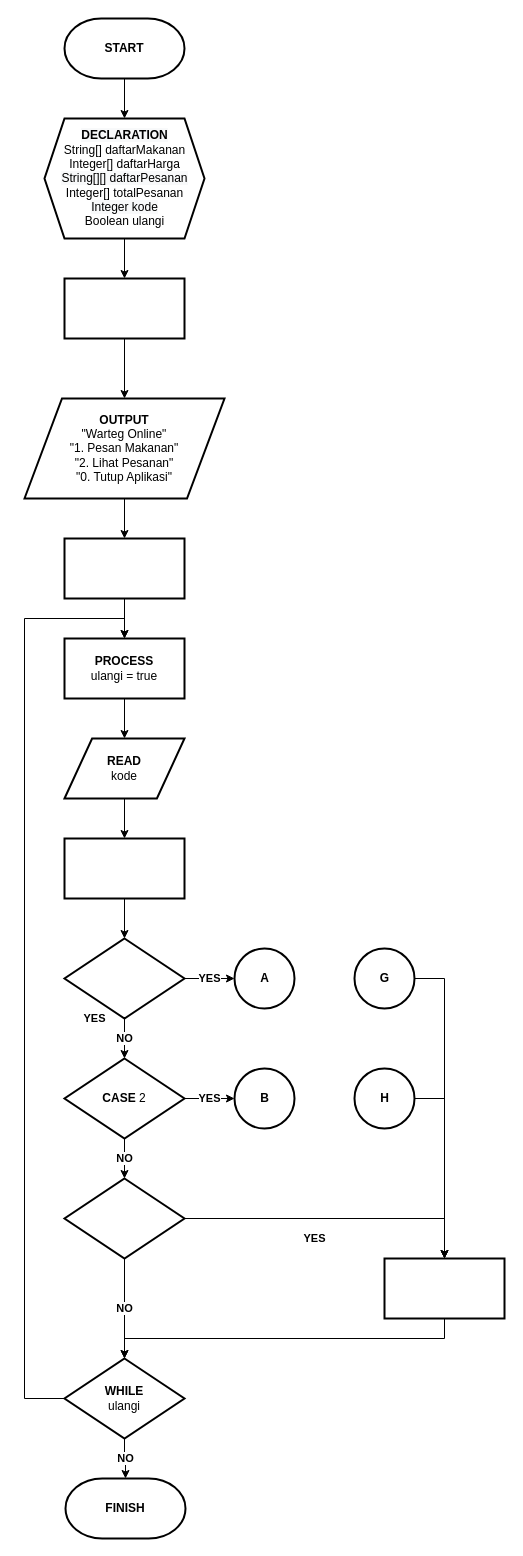
The diagram is 523 pixels wide and 1556 high, and some of its shapes have lost their labels. Here are the shapes that lost their labels. From the top down, the box of each, then its label:
(63, 277, 185, 339): PROCESS daftarMakanan = {} daftarHarga = {}
(63, 537, 185, 599): DO
(63, 837, 185, 899): SWITCH kode
(63, 937, 185, 1019): CASE 1
(63, 1177, 185, 1259): CASE 0
(383, 1257, 505, 1319): PROCESS ulangi = false
